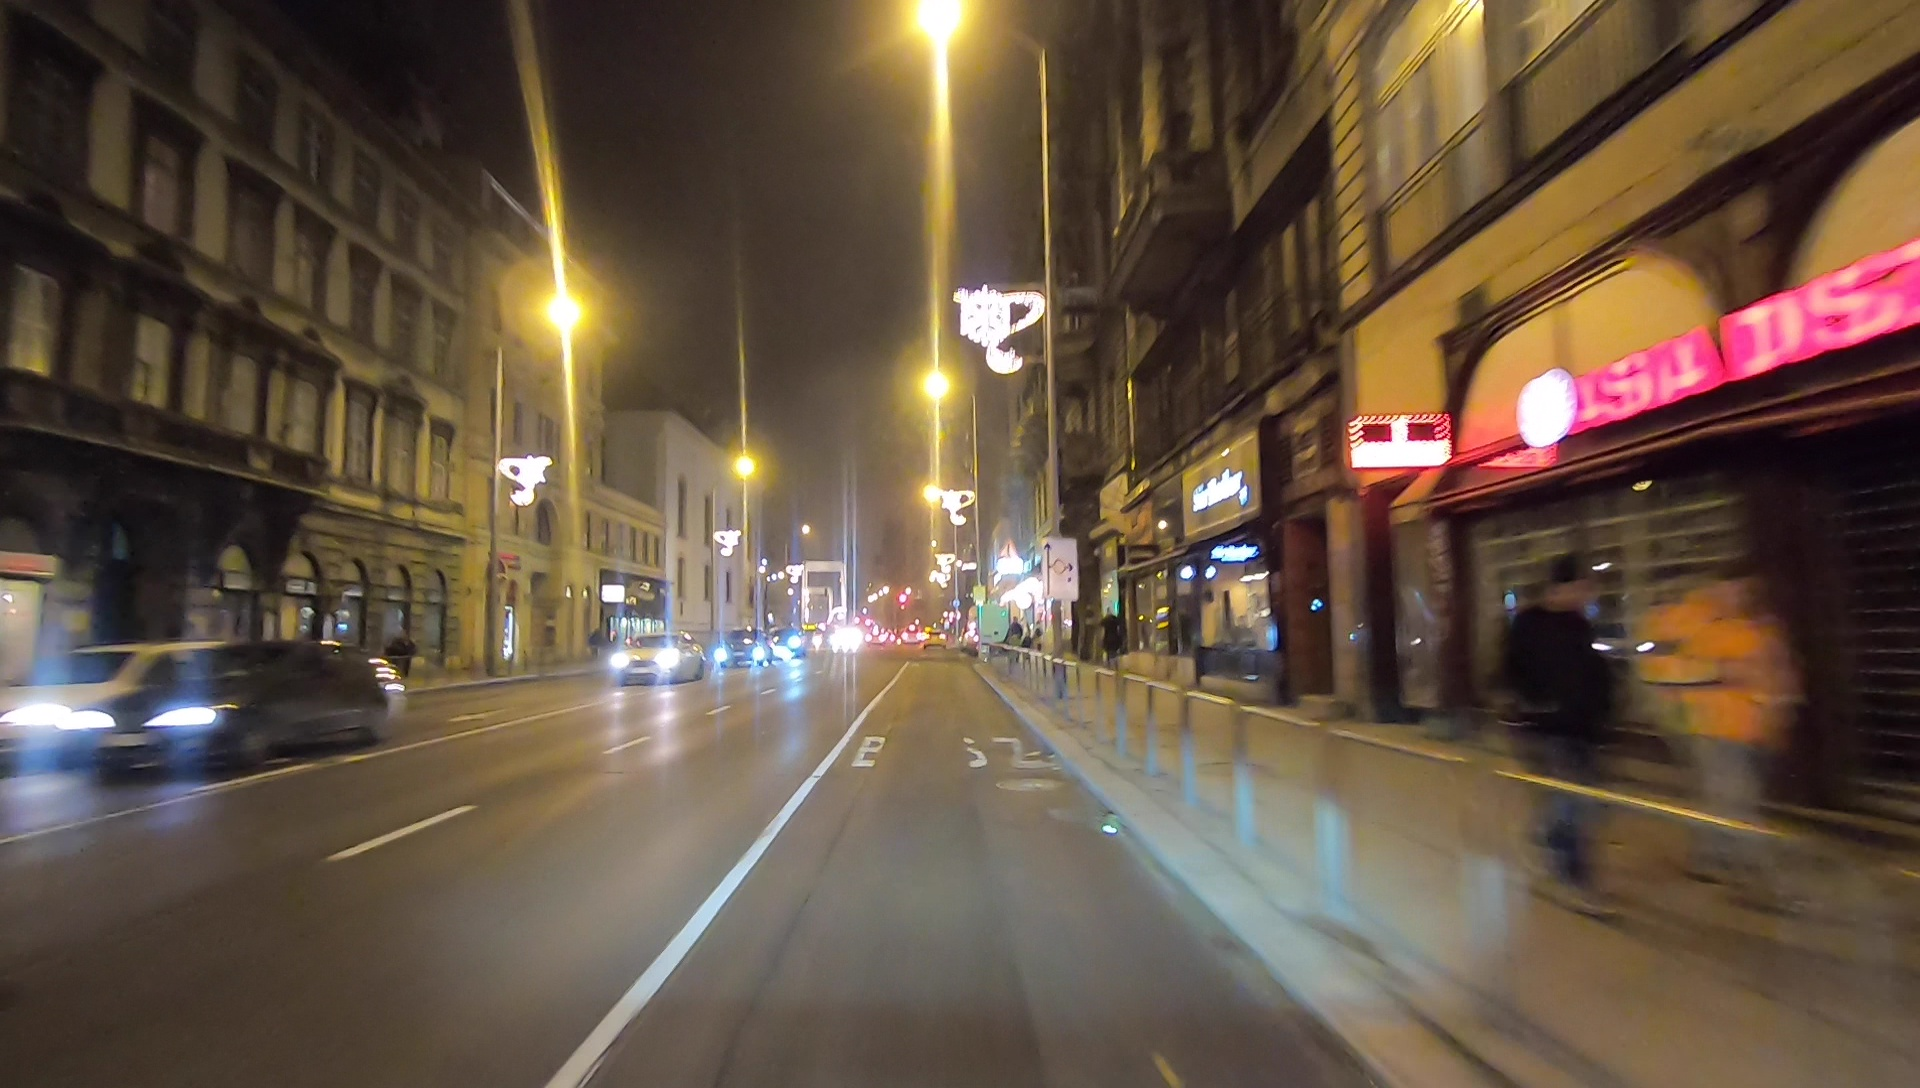person: (1647, 574, 1812, 919), (1491, 558, 1630, 924), (388, 632, 414, 686), (1099, 608, 1121, 669)
